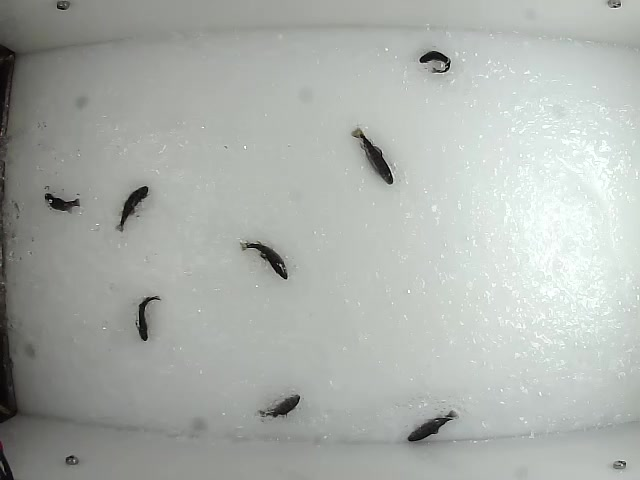fish: (350, 125, 392, 184), (238, 237, 290, 281), (113, 182, 151, 234), (405, 406, 459, 442), (132, 296, 163, 341), (257, 391, 302, 419), (43, 190, 83, 214), (418, 49, 453, 76)
